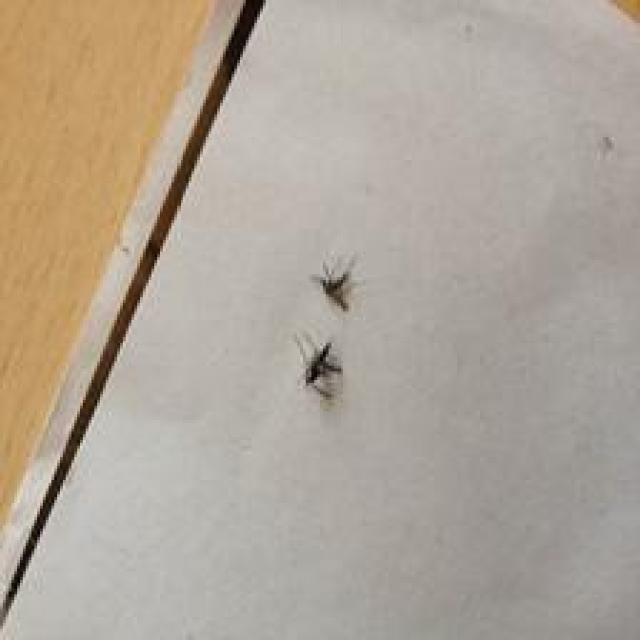Aedes albopictus: (312, 257, 357, 312)
